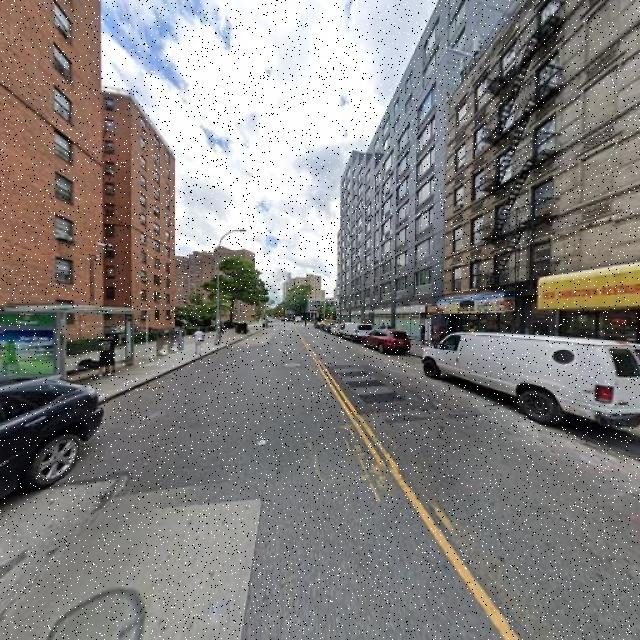Building: (449, 1, 640, 379), (1, 1, 102, 360), (339, 7, 445, 345), (129, 95, 175, 344)
